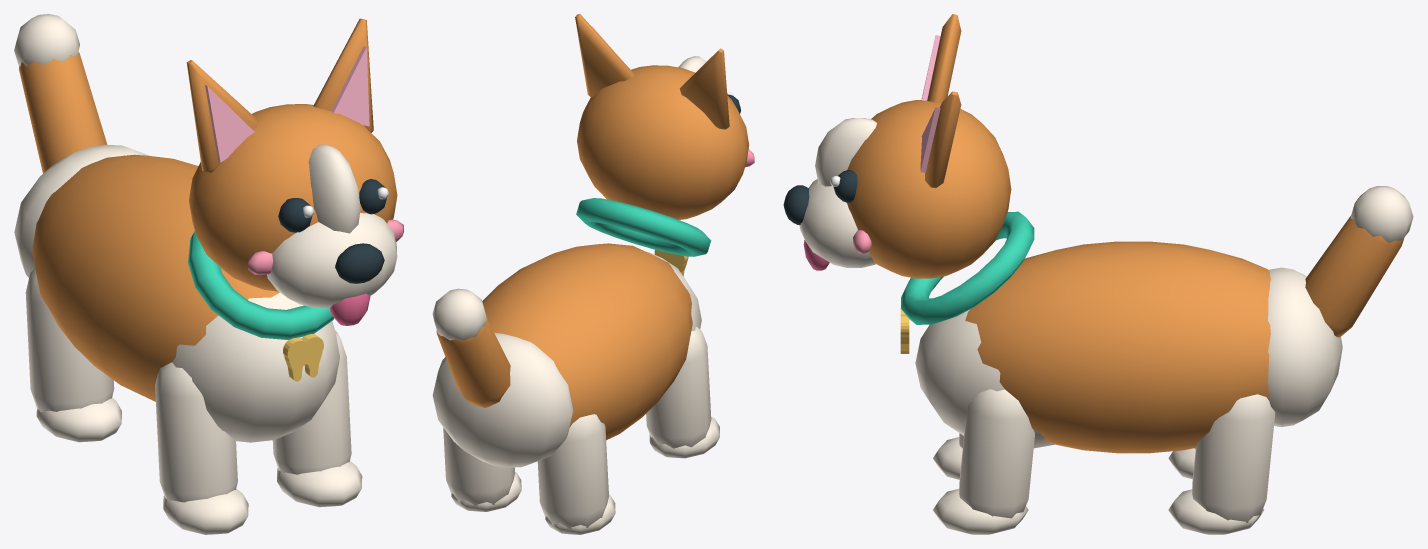
Rendered from prop_puppy.glb.
3 renders of one model, left to right at view 1: azimuth 30°, elevation 25°; view 2: azimuth 150°, elevation 25°; view 3: azimuth 270°, elevation 25°, orthographic. The views are drawn at different scales.
Parts seen in each view (by area): view 1: Body, Head, Tail; view 2: Body, Head, Tail; view 3: Body, Head, Tail.
Part boxes in pixels (x1,y1,x2,y2): Body: (14, 145, 362, 534); Head: (186, 18, 403, 325); Tail: (14, 14, 107, 173); Body: (432, 198, 719, 534); Head: (575, 14, 754, 219); Tail: (432, 288, 510, 407); Body: (900, 211, 1342, 534); Head: (783, 14, 1011, 278); Tail: (1305, 186, 1413, 337).
Bounding box in the file's own units: 0.3201 × 0.7133 × 0.9028.
